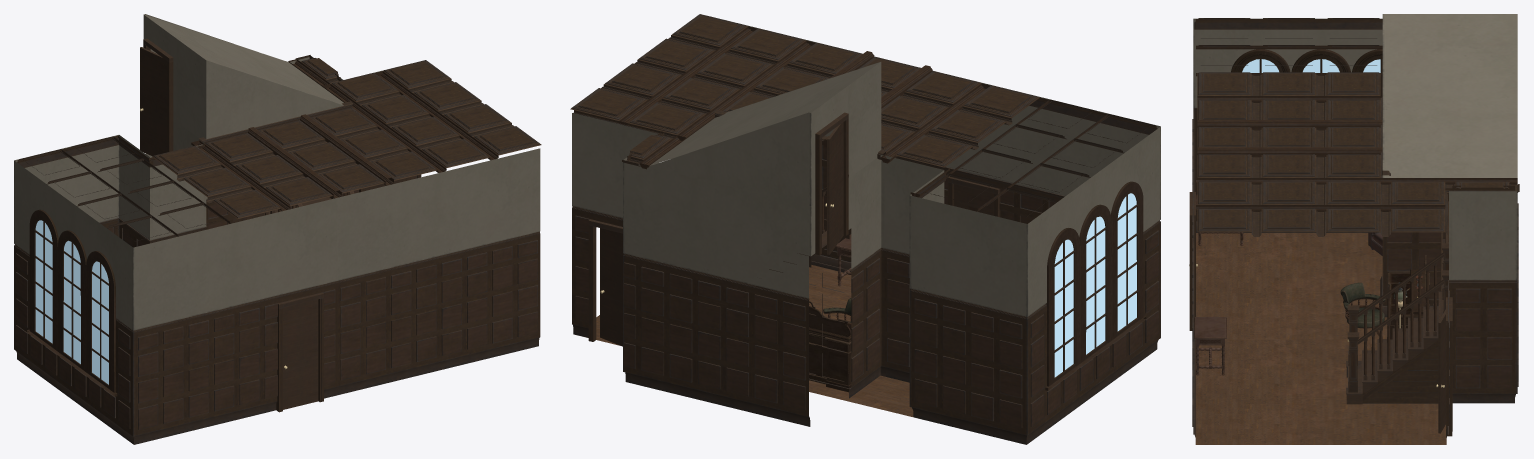
Rendered from hallway-mobile-1f6106cb0eff.glb.
3 renders of one model, left to right at view 1: azimuth 30°, elevation 25°; view 2: azimuth 150°, elevation 25°; view 3: azimuth 270°, elevation 25°, orthographic. The views are drawn at different scales.
Parts seen in each view (by area): view 1: Door_Frame_1_Interior_0, Glass_1_Interior_0; view 2: Door_Frame_1_Interior_0, Glass_1_Interior_0, Grand_Victorian_Desk_Grand_Victorian_Desk_0; view 3: Door_Frame_1_Interior_0, Side_Table_1_Wooden_Furniture_0, Grand_Victorian_Desk_Grand_Victorian_Desk_0, Victorian_Chair_Chair_Green_0, Glass_1_Interior_0.
Part boxes in pixels (x1=…): Door_Frame_1_Interior_0: x1=14, y1=14, x2=541, y2=444; Glass_1_Interior_0: x1=35, y1=220, x2=108, y2=384; Door_Frame_1_Interior_0: x1=570, y1=14, x2=1160, y2=444; Glass_1_Interior_0: x1=1054, y1=193, x2=1136, y2=377; Grand_Victorian_Desk_Grand_Victorian_Desk_0: x1=809, y1=301, x2=851, y2=392; Door_Frame_1_Interior_0: x1=1189, y1=14, x2=1519, y2=444; Side_Table_1_Wooden_Furniture_0: x1=1194, y1=195, x2=1243, y2=375; Grand_Victorian_Desk_Grand_Victorian_Desk_0: x1=1387, y1=255, x2=1429, y2=339; Victorian_Chair_Chair_Green_0: x1=1340, y1=282, x2=1385, y2=345; Glass_1_Interior_0: x1=1242, y1=59, x2=1380, y2=72.
Size of the model in its own units: 8.05 by 5.23 by 5.17.
8 materials, 7 textured.
